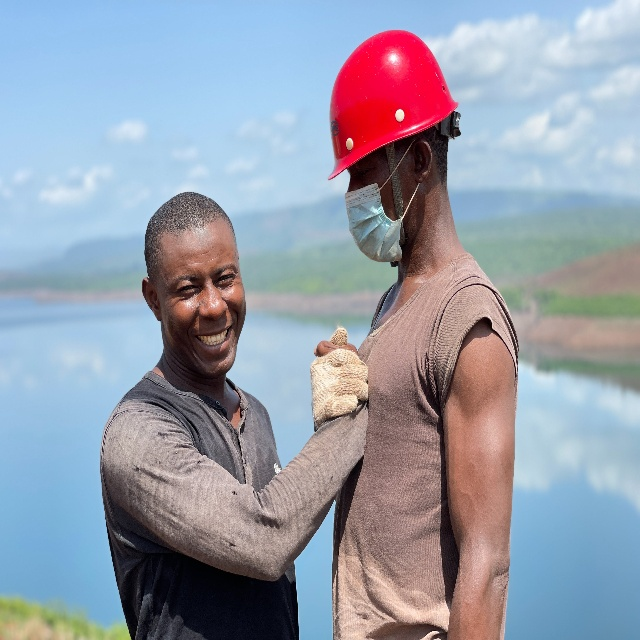Guantes: (309, 332, 369, 422)
Mascara: (341, 184, 403, 263)
